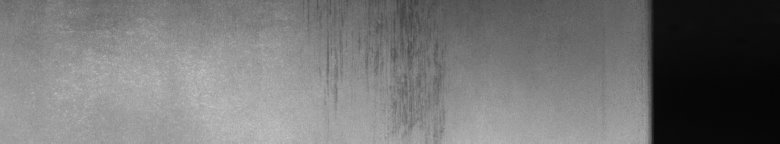ka: (319, 4, 438, 74)
